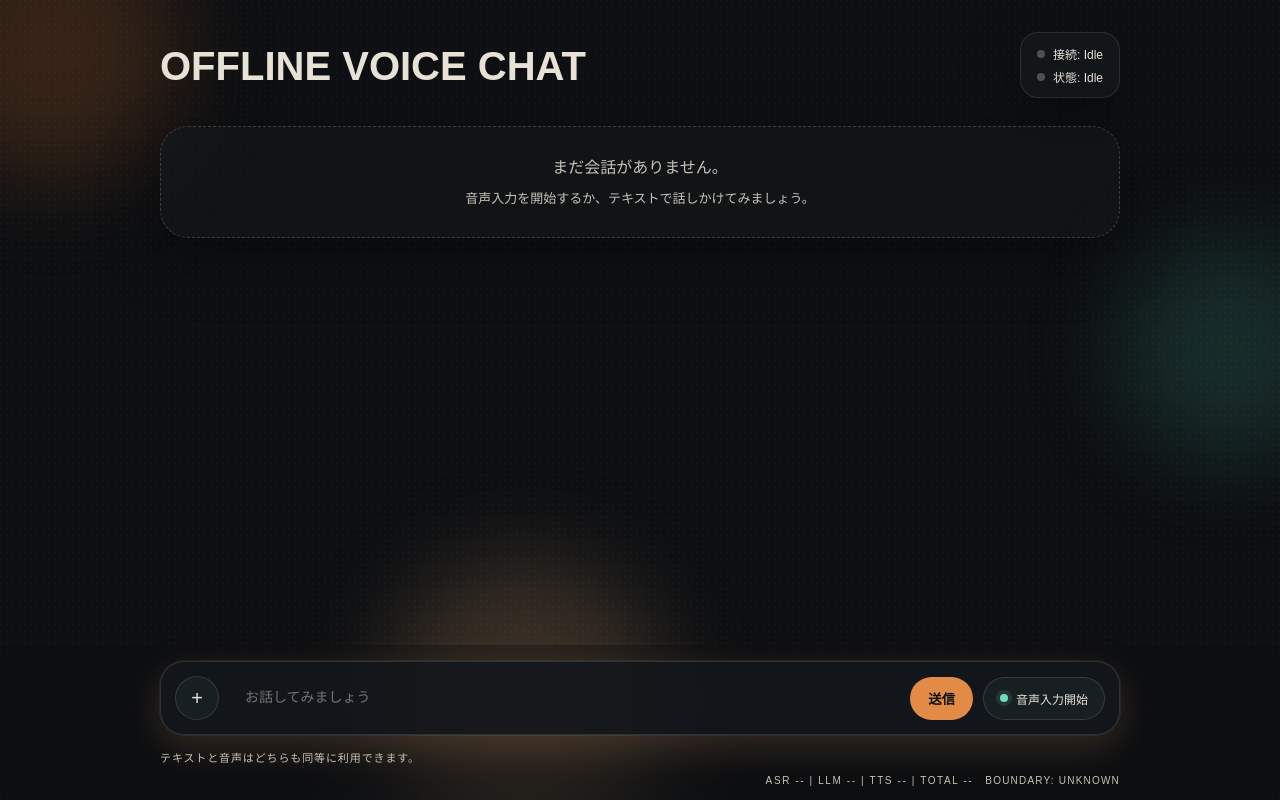
Test: App › locks text input while voice session is active
Step 1. Click the button "音声入力開始" → (1044, 698), box [983,676,1105,720]
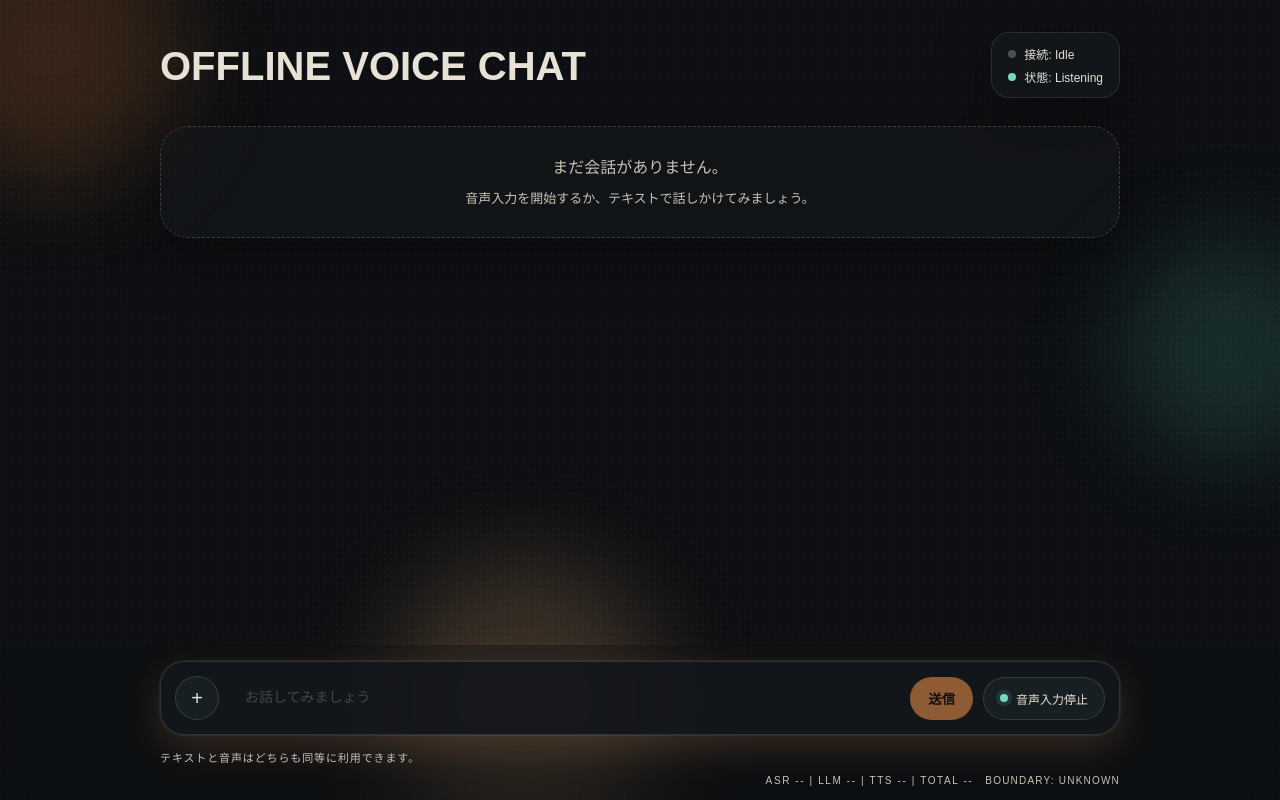
expect the text box named "メッセージ" is disabled: met, box [229,676,900,720]
expect the button "送信" is disabled: met, box [910,676,973,720]
